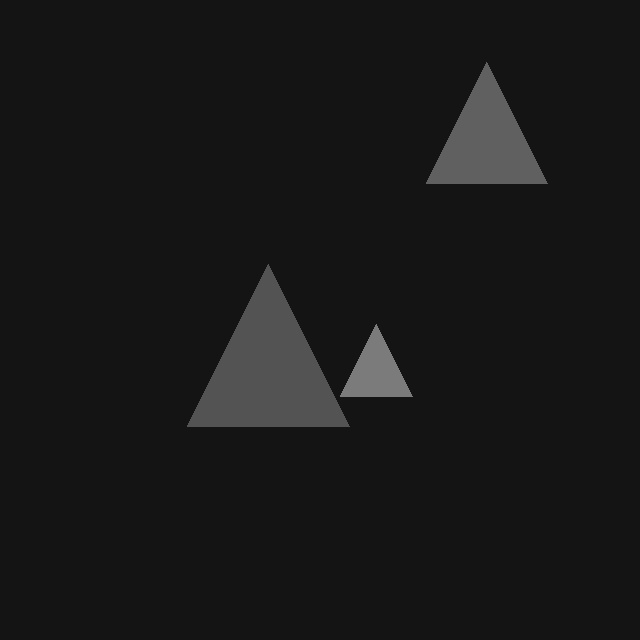triangle: (187, 264, 349, 426), (426, 62, 547, 183), (340, 324, 412, 396)
